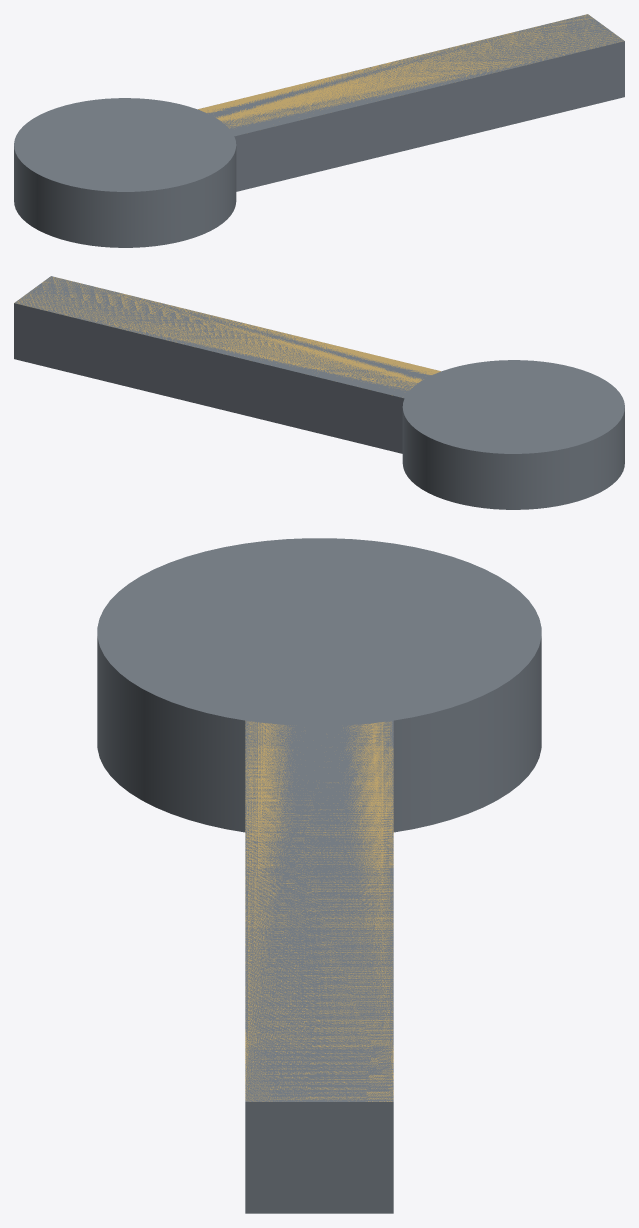
The model's file is step_02.glb.
3 views of the same model, one above another, from view 1: azimuth 30°, elevation 25°; view 2: azimuth 150°, elevation 25°; view 3: azimuth 270°, elevation 25° (orthographic). The views are drawn at different scales.
Parts seen in each view (by area): view 1: part__anchor collar, added__anchor collar; view 2: part__anchor collar, added__anchor collar; view 3: part__anchor collar, added__anchor collar.
Part boxes in pixels (box(x1,y1,x2,y2)): part__anchor collar: box(14, 14, 624, 247); added__anchor collar: box(198, 14, 623, 128); part__anchor collar: box(14, 276, 624, 509); added__anchor collar: box(15, 276, 440, 395); part__anchor collar: box(97, 538, 541, 1213); added__anchor collar: box(245, 721, 393, 1101).
Size of the model in its own units: 1080 by 100 by 360.
